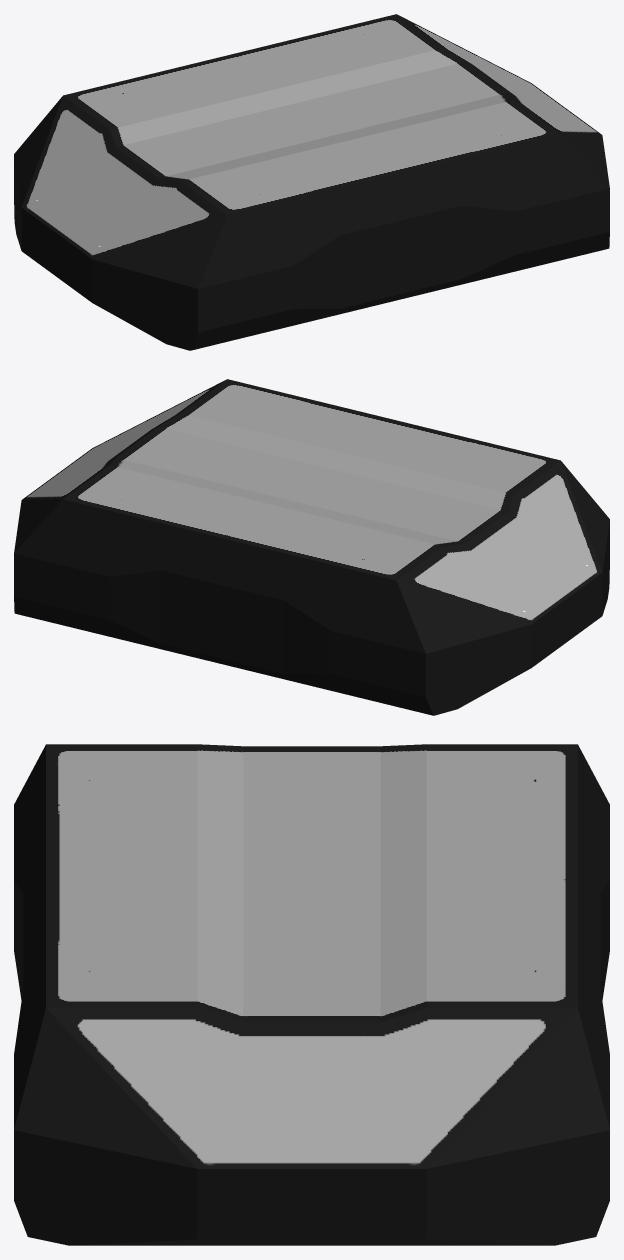
The model's file is rbvogui_chassis.dae.
3 renders of one model, top to bottom at view 1: azimuth 30°, elevation 25°; view 2: azimuth 150°, elevation 25°; view 3: azimuth 270°, elevation 25°, orthographic. The views are drawn at different scales.
Parts seen in each view (by area): view 1: rbvogui_chassis; view 2: rbvogui_chassis; view 3: rbvogui_chassis.
Boxes of the visible parts, x1=… form: rbvogui_chassis: x1=14, y1=14, x2=609, y2=350; rbvogui_chassis: x1=14, y1=379, x2=609, y2=715; rbvogui_chassis: x1=14, y1=744, x2=609, y2=1245.
Bounding box in the file's own units: 1.04 × 0.65 × 0.235.
Materials: 1 (1 with a texture image).
